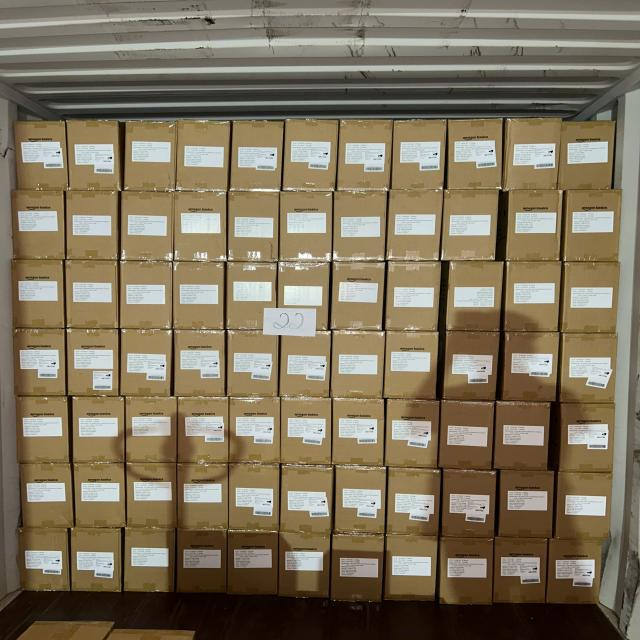Carton: (562, 187, 620, 261), (444, 186, 501, 260), (506, 117, 561, 192), (446, 260, 504, 331), (560, 330, 617, 402), (508, 188, 564, 261), (563, 263, 619, 336), (494, 400, 551, 471), (506, 261, 562, 333), (502, 331, 558, 403), (445, 330, 500, 403), (548, 538, 607, 606), (388, 187, 442, 261), (446, 118, 501, 190), (15, 119, 69, 192), (283, 118, 336, 192), (557, 404, 613, 474), (441, 398, 496, 469), (333, 188, 386, 261), (175, 188, 228, 261), (382, 330, 437, 400), (561, 120, 615, 191), (387, 260, 441, 331), (122, 189, 175, 261), (66, 188, 119, 260), (179, 120, 232, 192), (388, 396, 441, 468), (394, 118, 447, 190), (66, 119, 119, 191), (338, 118, 390, 191), (278, 263, 330, 336), (440, 468, 494, 538), (556, 471, 612, 538), (64, 259, 118, 328), (18, 396, 72, 465), (330, 330, 383, 400), (438, 538, 491, 608), (333, 260, 386, 330), (15, 328, 68, 398), (332, 535, 385, 605), (11, 260, 64, 330), (230, 121, 280, 195), (278, 190, 330, 261), (14, 189, 66, 260), (334, 396, 385, 468), (493, 538, 547, 606), (499, 471, 552, 540), (227, 461, 278, 532), (230, 190, 281, 261), (382, 535, 436, 602), (179, 397, 232, 465), (72, 397, 125, 465), (126, 119, 176, 191), (334, 464, 386, 533), (280, 464, 332, 533), (388, 466, 440, 535), (176, 329, 228, 398), (67, 328, 119, 397), (121, 261, 174, 328), (229, 263, 279, 334), (126, 396, 178, 464), (178, 528, 230, 596), (174, 261, 226, 329), (19, 528, 71, 596), (179, 463, 231, 531), (22, 462, 74, 530), (226, 329, 277, 398), (231, 396, 282, 465), (278, 399, 329, 468), (120, 329, 171, 397), (127, 462, 178, 530), (125, 528, 176, 596), (277, 532, 328, 599), (69, 525, 119, 593), (74, 463, 125, 529), (281, 333, 331, 399), (226, 533, 276, 598)
